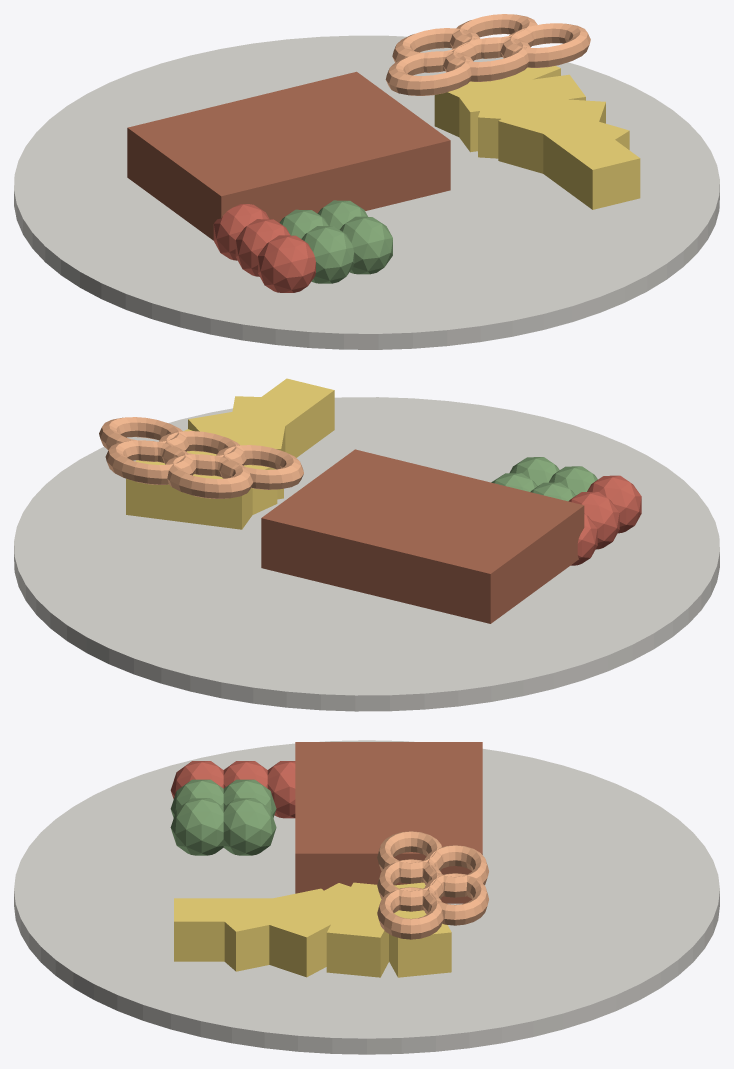
Rendered from mar-y-tierra-v90.glb.
The picture shows the model from 3 angles, top to bottom: view 1: azimuth 30°, elevation 25°; view 2: azimuth 150°, elevation 25°; view 3: azimuth 270°, elevation 25°; orthographic projection.
Visible parts, largest first — view 1: plate, ribeye, potato0, potato1, potato3, potato2, salad0, shrimp4, shrimp0, potato4, salad2, salad1 (+7 smaller); view 2: plate, ribeye, potato4, potato0, potato1, shrimp0, shrimp4, shrimp1, shrimp3, shrimp2, potato2, salad0 (+7 smaller); view 3: plate, ribeye, potato1, potato2, potato3, potato0, potato4, salad5, salad2, shrimp0, shrimp4, shrimp1 (+7 smaller).
Boxes of the visible parts, x1,y1,x2,y2 form: plate: (14, 35, 719, 349); ribeye: (127, 71, 450, 240); potato0: (532, 114, 640, 209); potato1: (498, 102, 629, 173); potato3: (457, 74, 585, 152); potato2: (478, 95, 605, 158); salad0: (258, 235, 315, 292); shrimp4: (500, 23, 590, 67); shrimp0: (385, 51, 473, 95); potato4: (434, 66, 560, 136); salad2: (340, 216, 392, 274); salad1: (301, 226, 354, 283); plate: (14, 397, 719, 711); ribeye: (261, 449, 584, 623); potato4: (126, 460, 257, 529); potato0: (227, 378, 334, 457); potato1: (228, 396, 289, 451); shrimp0: (216, 445, 303, 489); shrimp4: (99, 417, 189, 461); shrimp1: (165, 454, 253, 498); shrimp3: (105, 440, 195, 484); shrimp2: (159, 431, 246, 475); potato2: (188, 411, 283, 499); salad0: (587, 475, 641, 533); plate: (14, 740, 719, 1054); ribeye: (295, 742, 482, 903); potato1: (212, 888, 343, 971); potato2: (264, 883, 374, 977); potato3: (326, 882, 388, 977); potato0: (174, 898, 294, 961); potato4: (371, 882, 451, 977); salad5: (223, 798, 276, 855); salad2: (170, 798, 223, 855); shrimp0: (377, 831, 443, 883); shrimp4: (377, 887, 443, 939); shrimp1: (422, 845, 488, 897).
Bounding box in the file's own units: 0.32 × 0.05 × 0.32.
